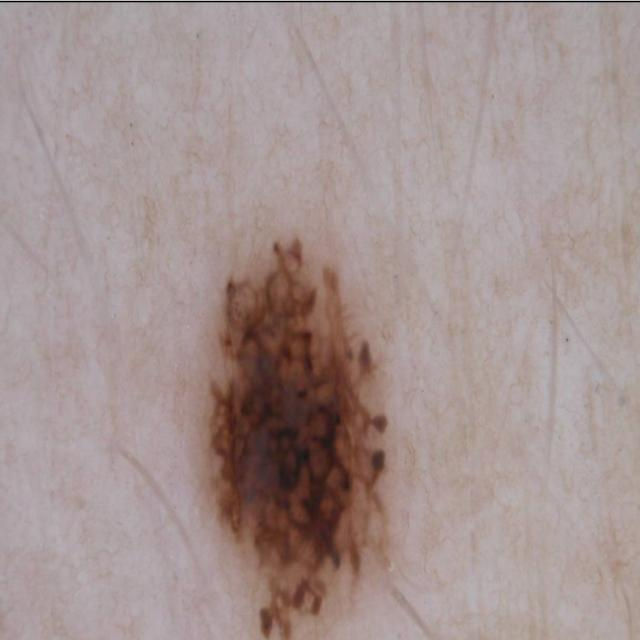Melanoma: (169, 206, 433, 640)
